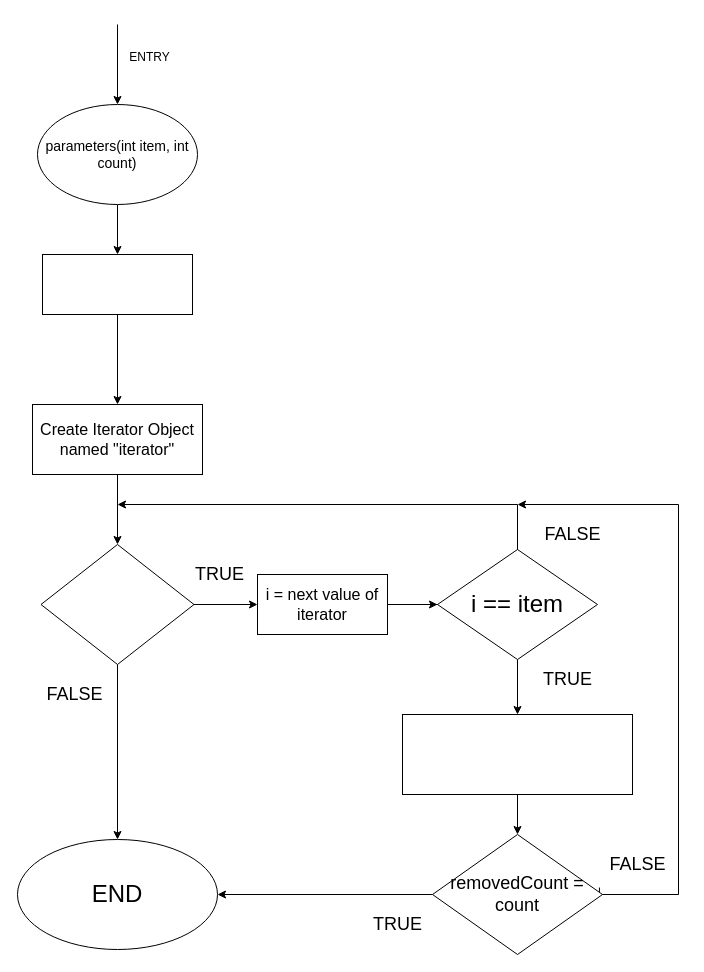
The diagram is 704 pixels wide and 972 high, and some of its shapes have lost their labels. The box of each missing label's shape, as (x1, y1, x2, y2) in pixels:
iterator has another value to iterate over: (40, 544, 194, 664)
remove item add 1 to value of removedCount: (402, 714, 632, 794)
removedCount = 0: (42, 254, 192, 314)
